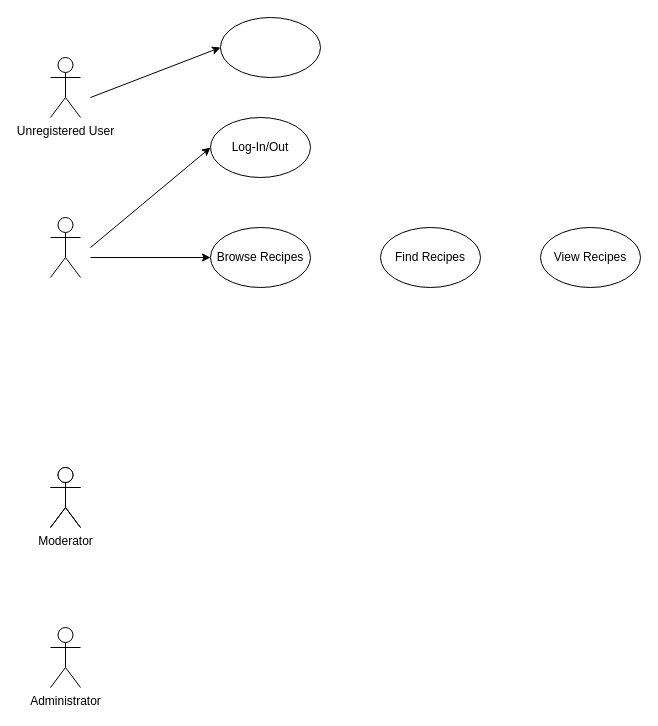
The diagram is 658 pixels wide and 726 high, and some of its shapes have lost their labels. Each missing label, with the centre of its shape:
Sign-up: (270,47)
User: (65,247)
